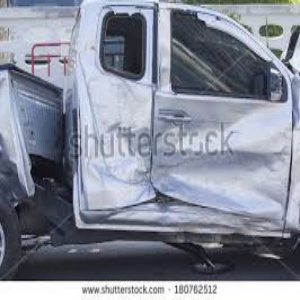door: (91, 164, 286, 227)
